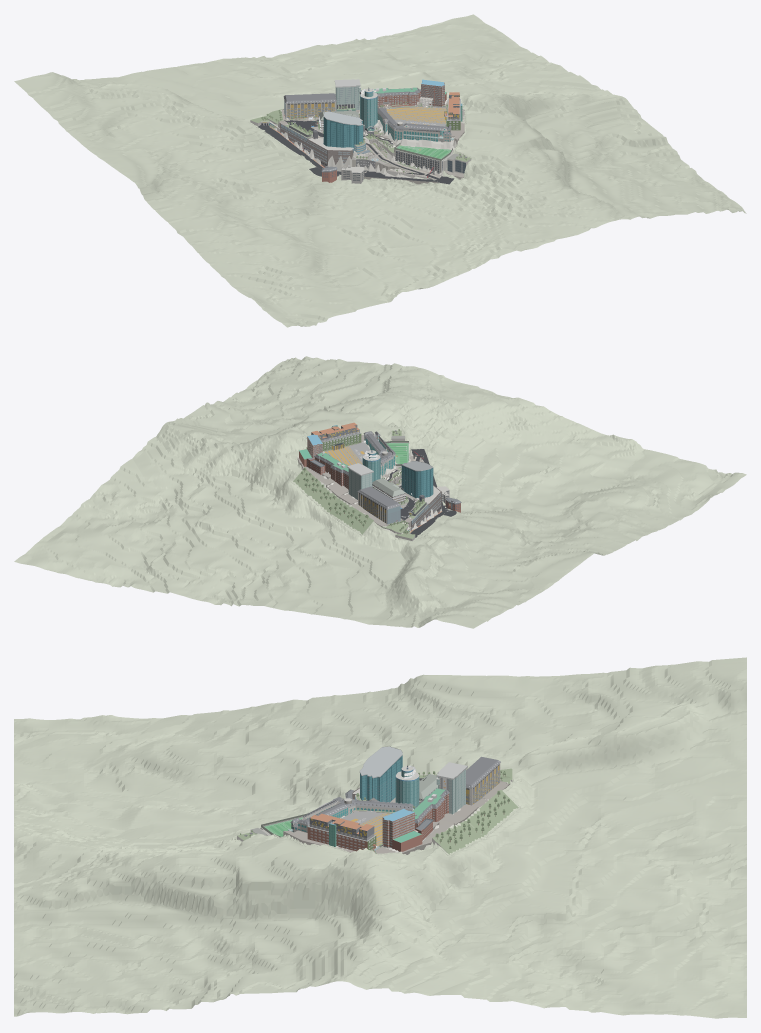
Rendered from campus.glb.
The picture shows the model from 3 angles, top to bottom: view 1: azimuth 30°, elevation 25°; view 2: azimuth 150°, elevation 25°; view 3: azimuth 270°, elevation 25°; orthographic projection. The views are drawn at different scales.
Parts seen in each view (by area): view 1: ground, structures, b|북악관, b|수인관, surfaces, b|대일관, b|한림관#고리, b|청운관; view 2: ground, structures, b|북악관, surfaces, b|유담관, b|문예관, b|대일관, b|본관; view 3: ground, structures, b|북악관, b|청운관, b|혜인관, b|한림관#고리, b|혜인관#옥상상자, surfaces, b|유담관#탑6, b|문예관, b|대일관.
Part boxes in pixels (<box>): ground: <box>14,14,746,327</box>; structures: <box>250,79,471,184</box>; b|북악관: <box>283,93,336,118</box>; b|수인관: <box>394,145,451,173</box>; surfaces: <box>248,106,471,185</box>; b|대일관: <box>359,87,419,107</box>; b|한림관#고리: <box>360,92,377,131</box>; b|청운관: <box>421,79,444,106</box>; ground: <box>14,356,746,628</box>; structures: <box>293,429,456,540</box>; b|북악관: <box>357,486,401,524</box>; surfaces: <box>291,431,458,541</box>; b|유담관: <box>414,466,433,498</box>; b|문예관: <box>348,468,372,499</box>; b|대일관: <box>314,453,348,489</box>; b|본관: <box>372,478,405,503</box>; ground: <box>14,657,746,1018</box>; structures: <box>237,762,518,854</box>; b|북악관: <box>466,756,500,804</box>; b|청운관: <box>382,808,414,848</box>; b|혜인관: <box>307,826,376,851</box>; b|한림관#고리: <box>395,771,419,808</box>; b|혜인관#옥상상자: <box>309,813,362,837</box>; surfaces: <box>234,771,520,857</box>; b|유담관#탑6: <box>359,769,381,801</box>; b|문예관: <box>438,769,465,814</box>; b|대일관: <box>412,788,449,830</box>.
Bounding box in the file's own units: 896 × 153 × 924.
